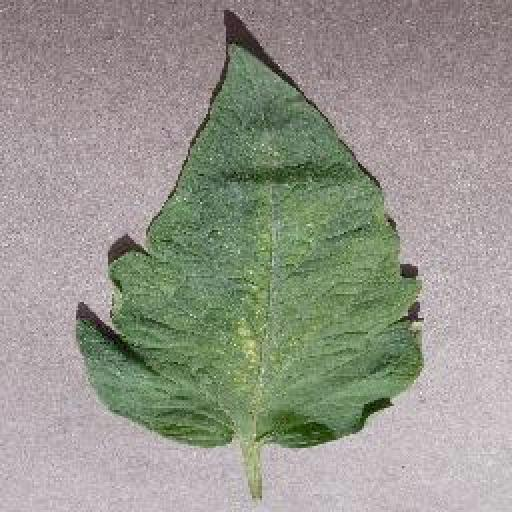disease_tomato: (76, 44, 426, 446)
